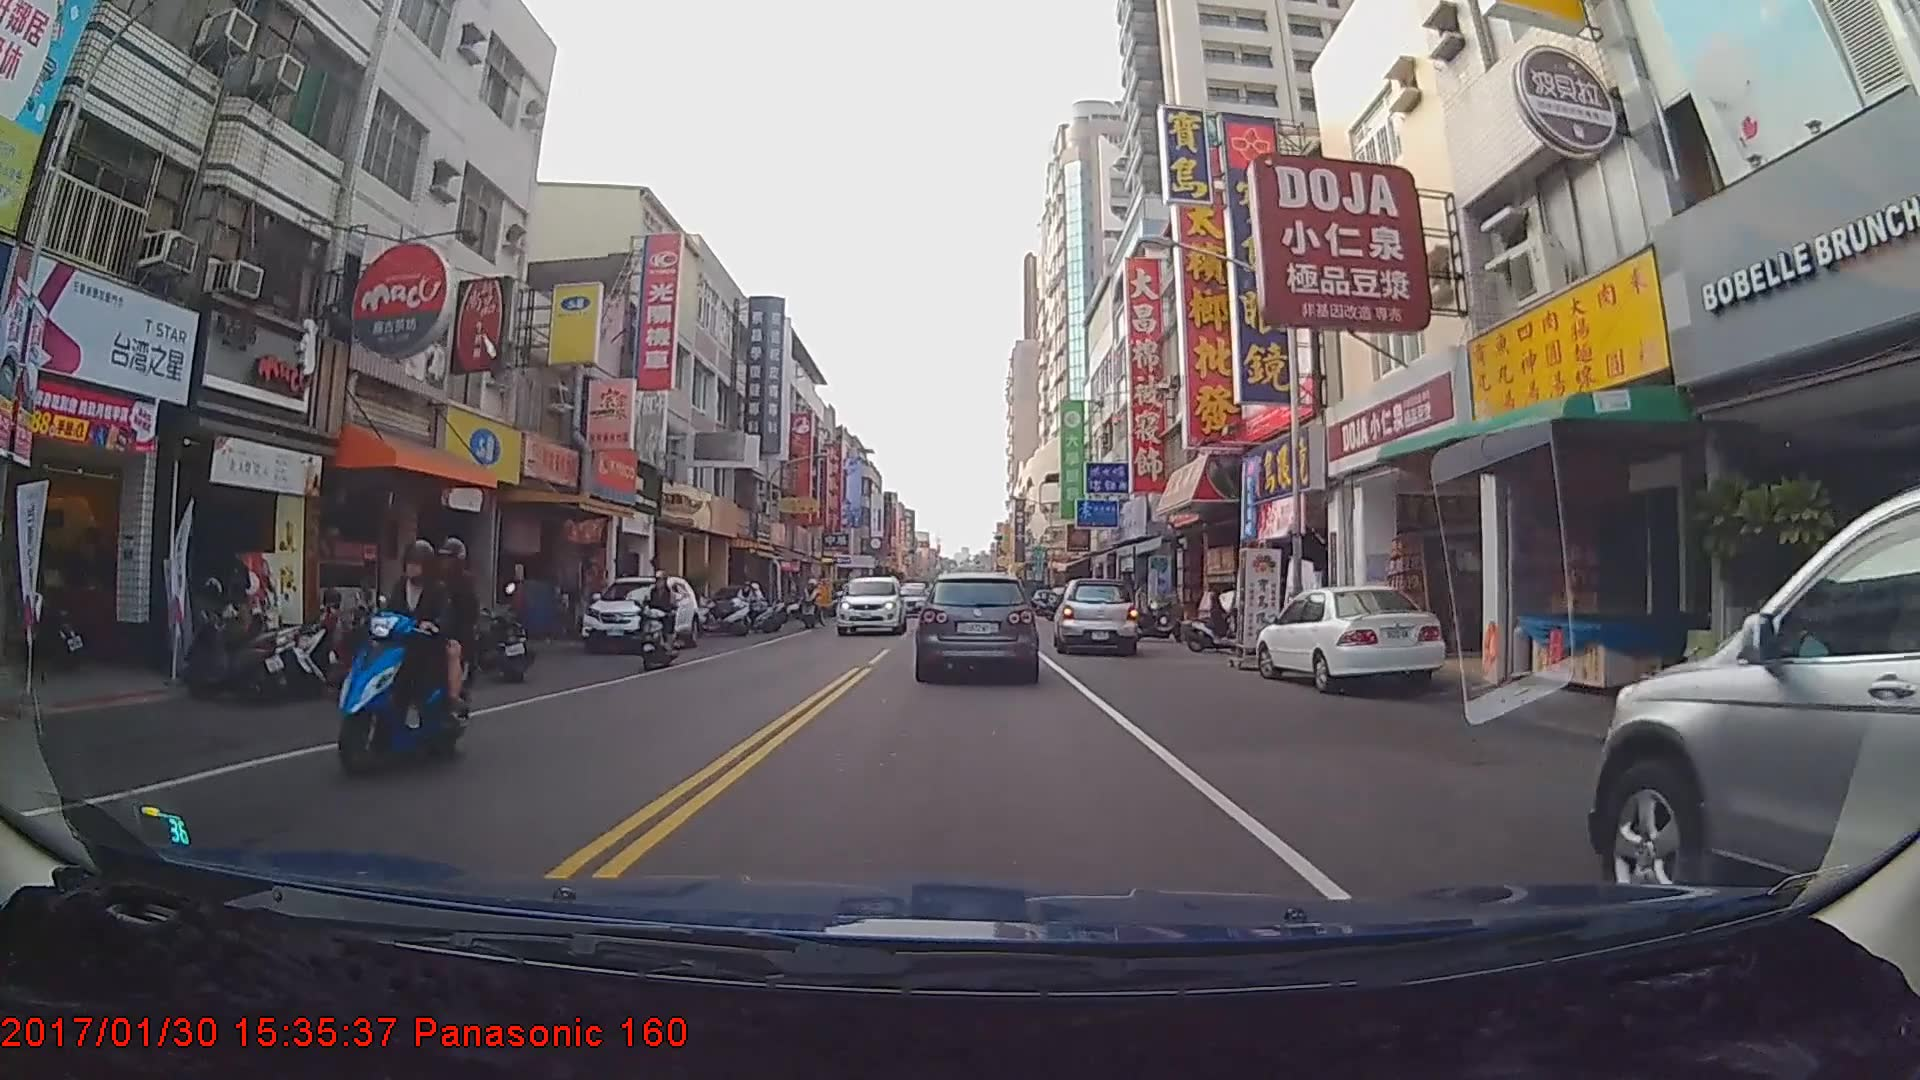rider: (332, 534, 481, 782), (1186, 584, 1256, 656), (637, 570, 686, 670)
vehicle: (1585, 482, 1920, 1025), (1257, 581, 1443, 688), (918, 572, 1037, 679), (578, 575, 700, 654), (1054, 577, 1138, 654), (835, 573, 906, 636)
